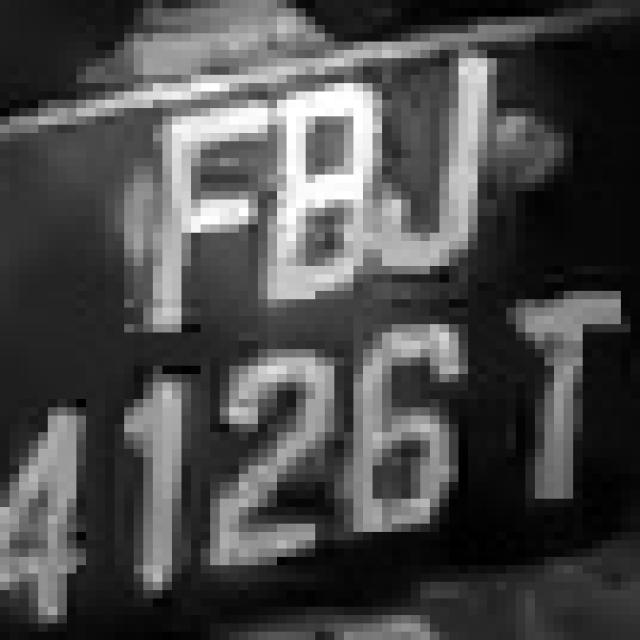1: (124, 357, 191, 607)
2: (210, 341, 334, 582)
4: (19, 374, 96, 623)
6: (334, 316, 468, 557)
B: (258, 75, 392, 307)
F: (124, 83, 258, 349)
J: (363, 50, 525, 299)
T: (478, 257, 630, 548)
